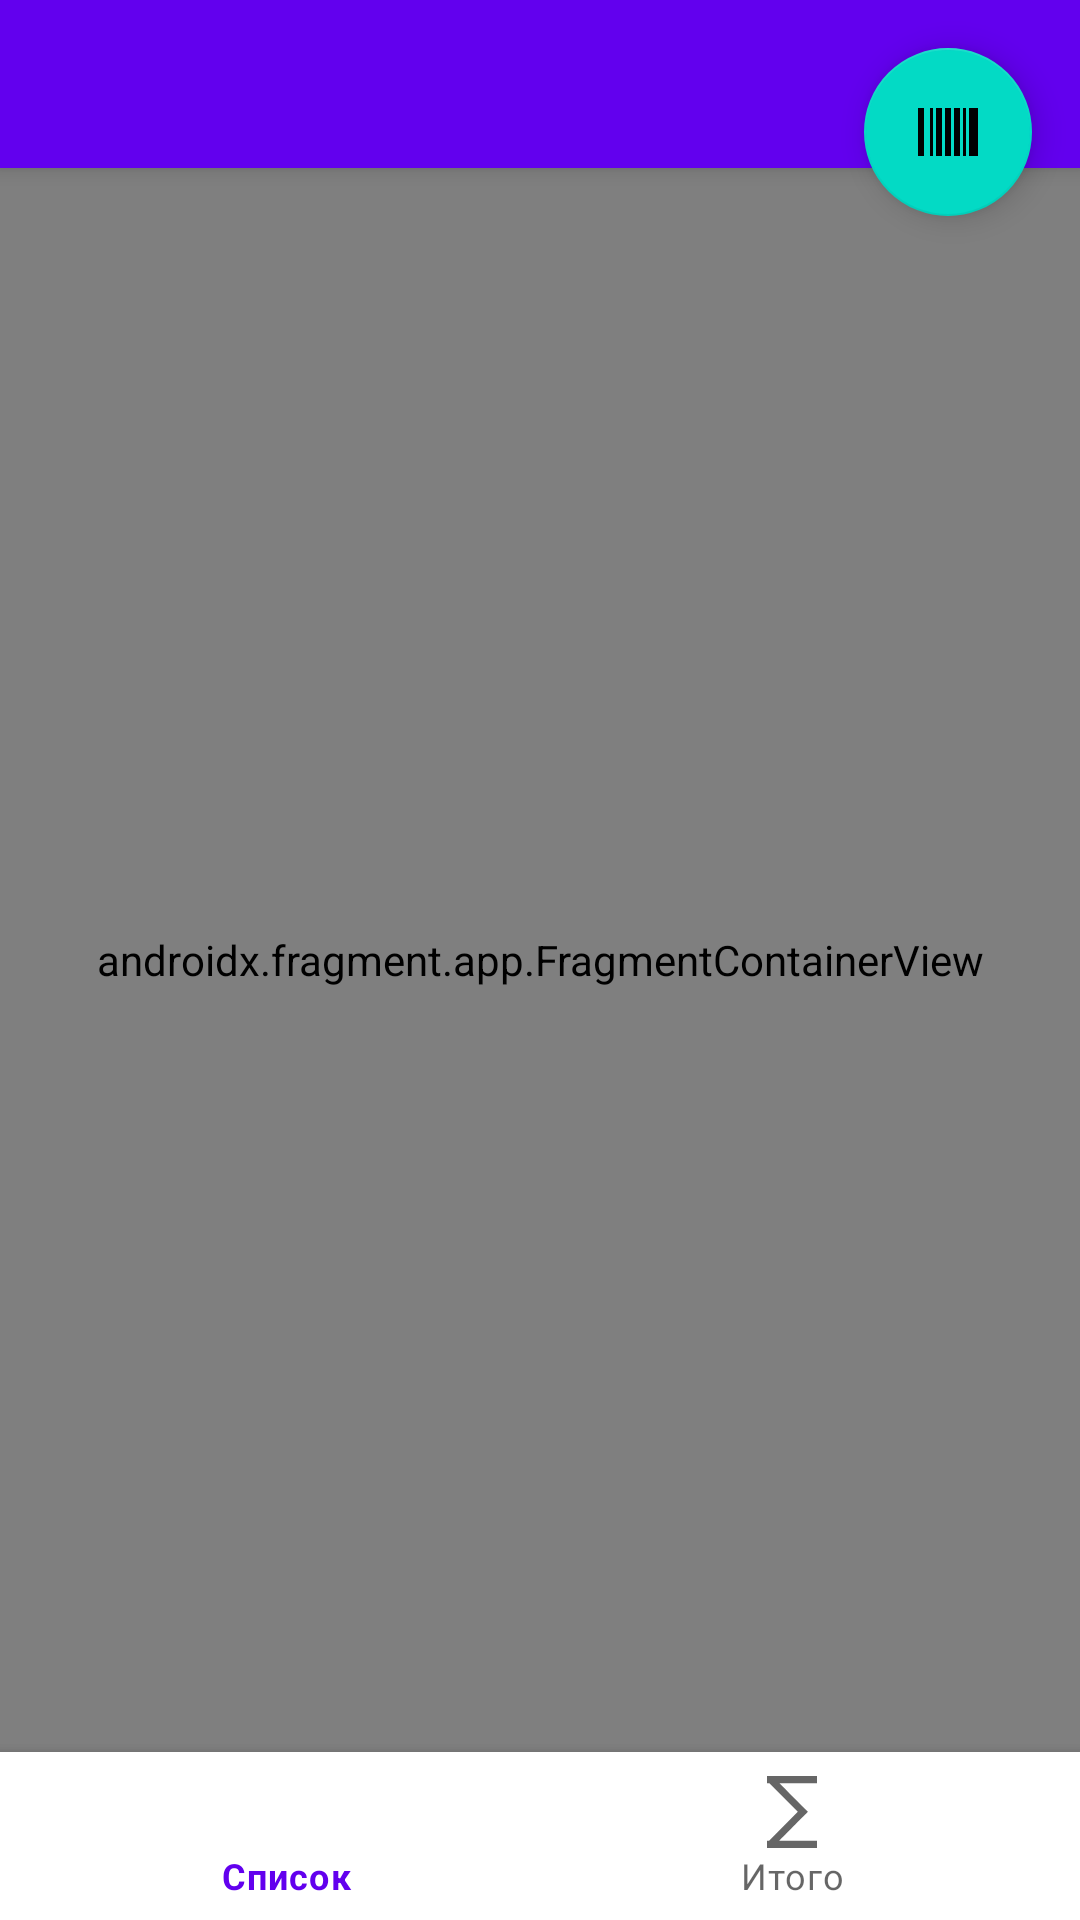

Where to tap for icons on this 1080w x 1920h app screen, as (x=x, y=y):
barcode: (x=948, y=132)
